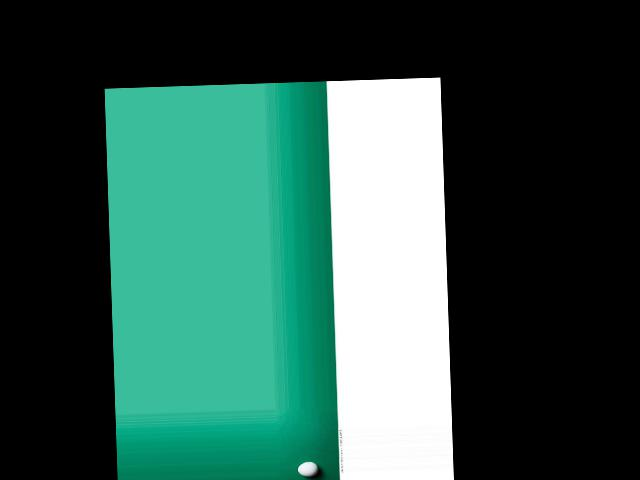egg: (298, 460, 318, 476)
